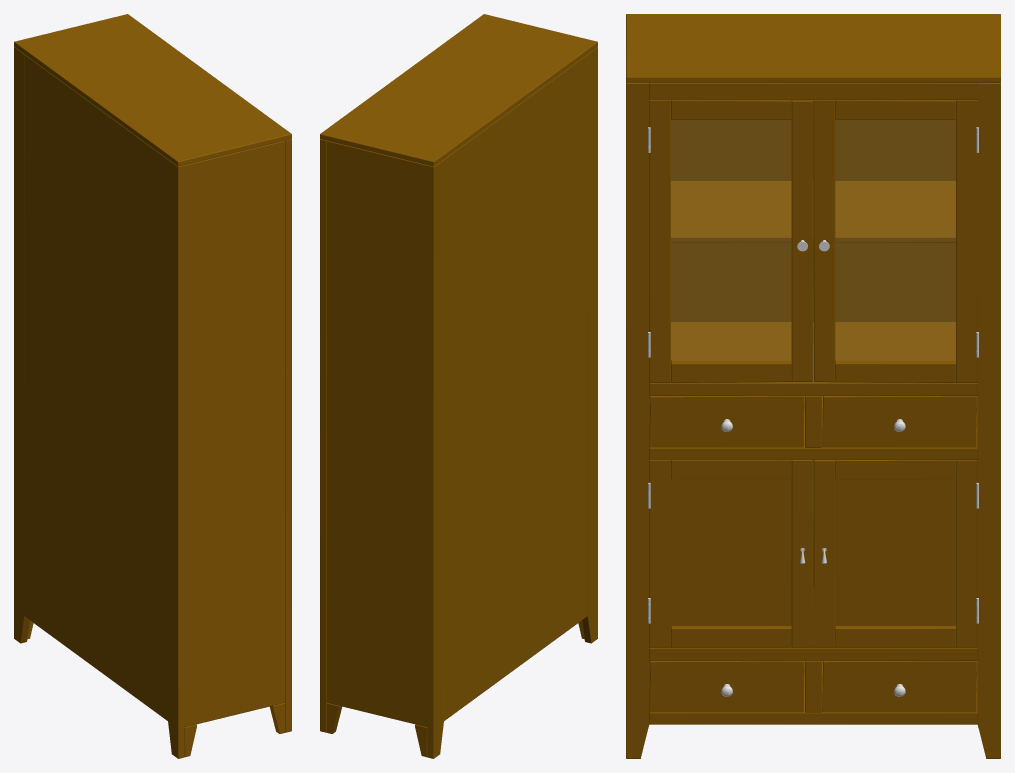
The model's file is dolap.glb.
3 renders of one model, left to right at view 1: azimuth 30°, elevation 25°; view 2: azimuth 150°, elevation 25°; view 3: azimuth 270°, elevation 25°, orthographic. The views are drawn at different scales.
Parts seen in each view (by area): view 1: dolap_1; view 2: dolap_1; view 3: dolap_1, door_3, door_4, door_2, door_1, drawer_1, drawer_2, drawer_3, drawer_4.
Part boxes in pixels (box(x1,y1,x2,y2)): dolap_1: box(14, 14, 291, 758); dolap_1: box(320, 14, 597, 758); dolap_1: box(626, 14, 1000, 758); door_3: box(813, 460, 978, 647); door_4: box(648, 460, 813, 647); door_2: box(648, 100, 813, 382); door_1: box(813, 100, 978, 382); drawer_1: box(822, 396, 976, 447); drawer_2: box(649, 396, 804, 447); drawer_3: box(822, 661, 976, 712); drawer_4: box(649, 661, 804, 712).
Size of the model in its own units: 1.72 by 7.89 by 3.93.
